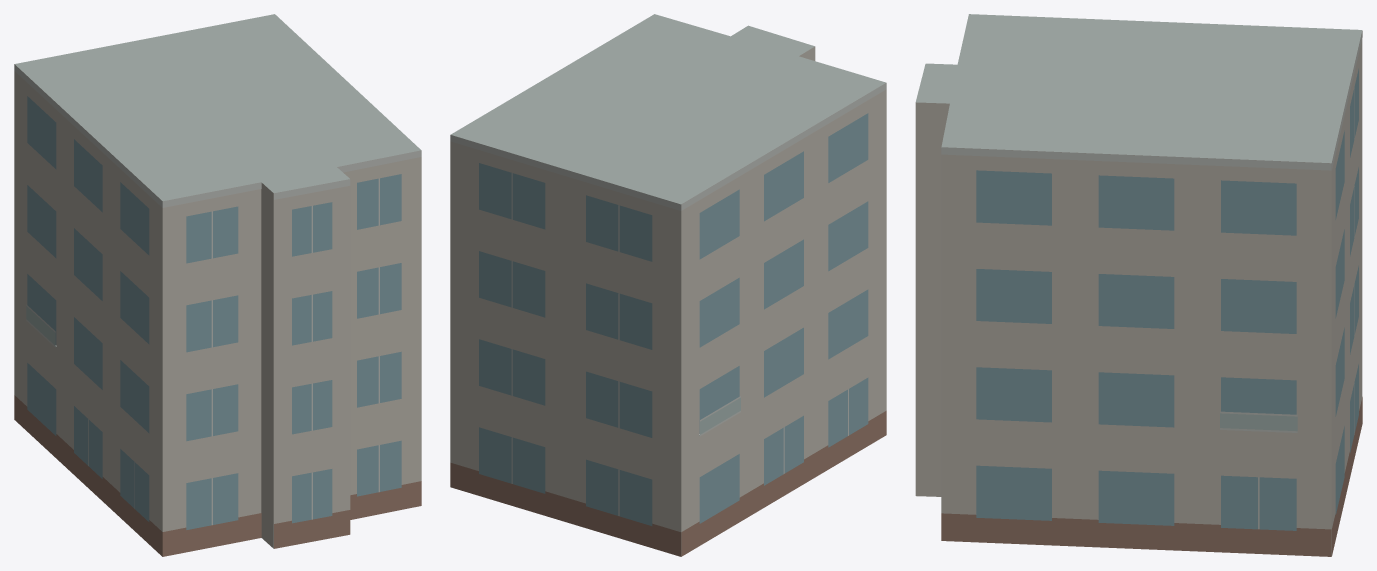
Rendered from survey-upis-32767018.glb.
3 views of the same model, side by side, from view 1: azimuth 30°, elevation 25°; view 2: azimuth 150°, elevation 25°; view 3: azimuth 270°, elevation 25° (orthographic). The views are drawn at different scales.
Parts seen in each view (by area): view 1: survey-upis-32767018.tmp; view 2: survey-upis-32767018.tmp; view 3: survey-upis-32767018.tmp.
Boxes of the visible parts, box(x1,y1,x2,y2) form: survey-upis-32767018.tmp: box(14, 14, 421, 556); survey-upis-32767018.tmp: box(450, 14, 886, 556); survey-upis-32767018.tmp: box(915, 14, 1362, 556).
Bounding box in the file's own units: 10.58 × 13 × 13.38.
